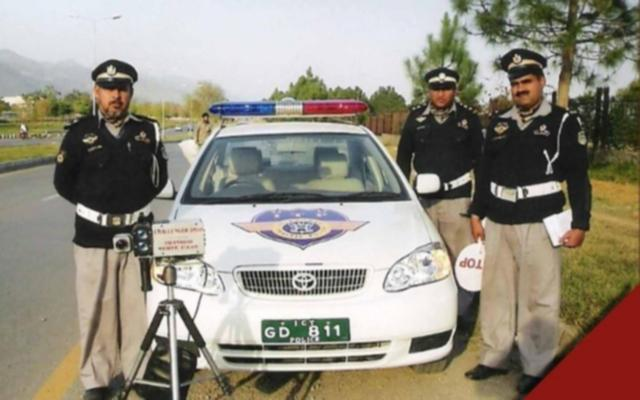police_car: (156, 102, 457, 371)
